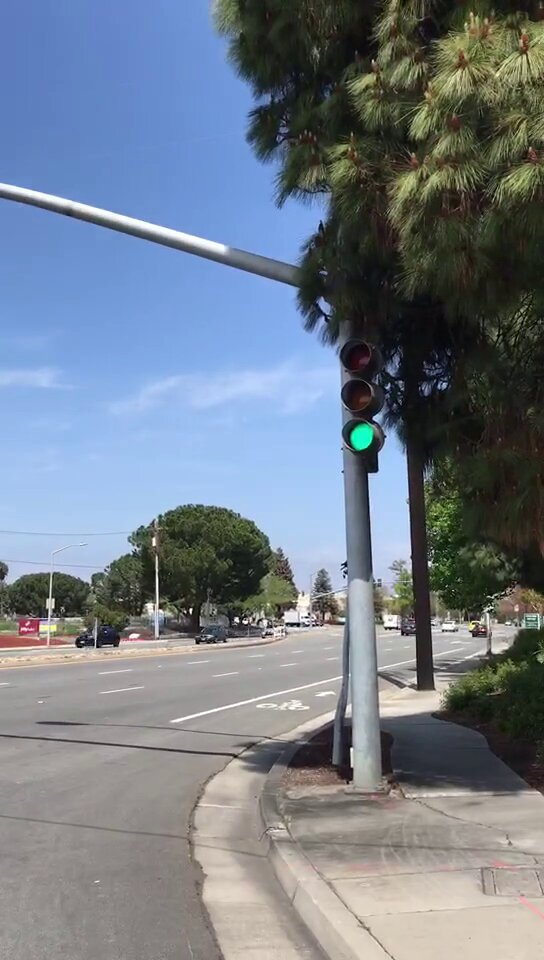green_light: (341, 340, 380, 456)
